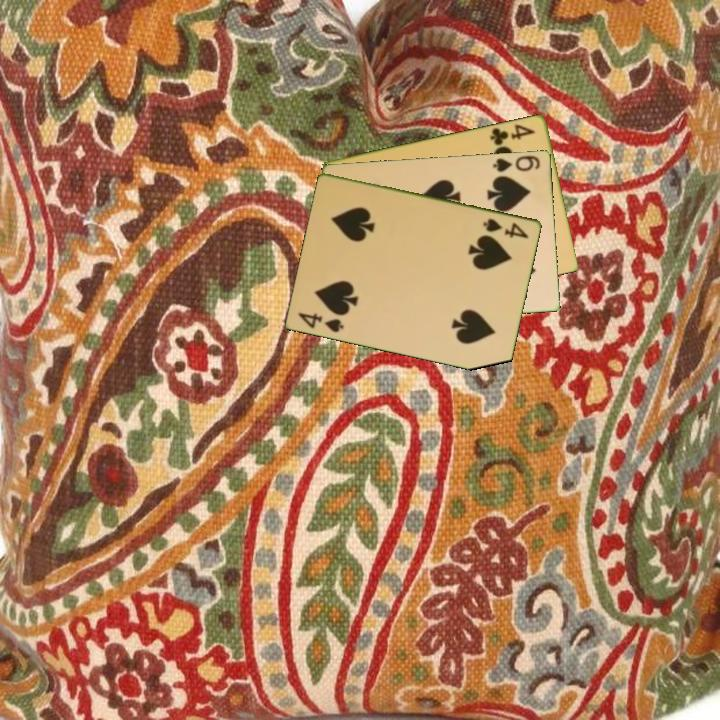4c: (487, 120, 538, 148)
4s: (480, 214, 532, 241), (295, 309, 347, 335)
6s: (490, 152, 543, 175)
